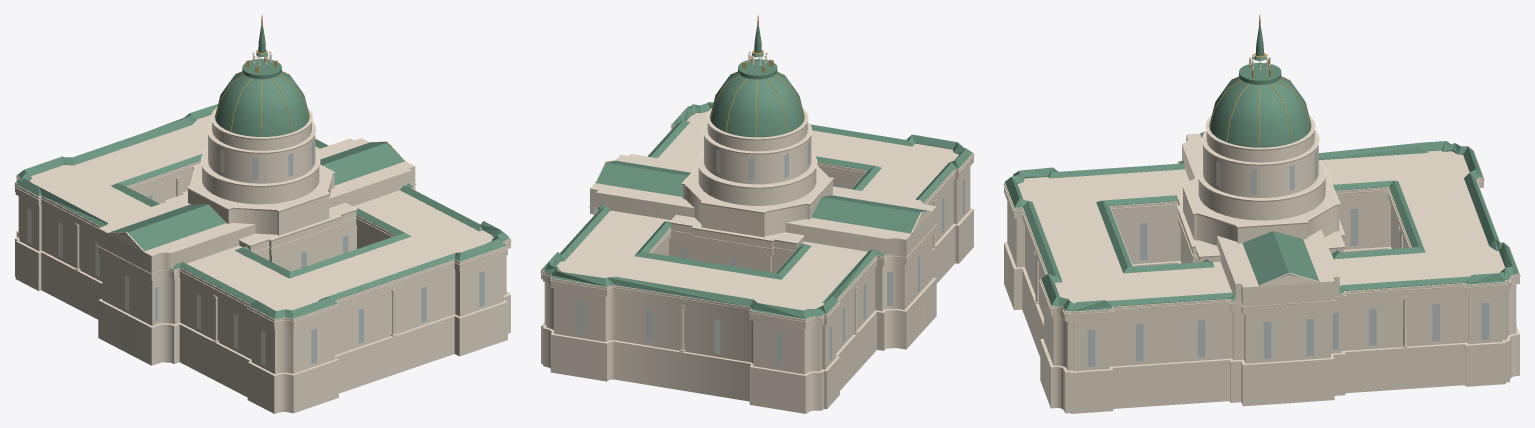
The picture shows the model from 3 angles, left to right: view 1: azimuth 30°, elevation 25°; view 2: azimuth 150°, elevation 25°; view 3: azimuth 270°, elevation 25°; orthographic projection. The views are drawn at different scales.
Visible parts, largest first — view 1: stone, roof, trim, window, metal; view 2: stone, roof, trim, window, metal; view 3: stone, roof, window, trim, metal.
Part boxes in pixels (<box>): stone: <box>15,109,510,413</box>; roof: <box>16,25,509,319</box>; trim: <box>14,50,511,322</box>; window: <box>27,135,484,365</box>; metal: <box>215,14,308,136</box>; stone: <box>541,108,973,413</box>; roof: <box>542,25,972,319</box>; trim: <box>540,50,974,322</box>; window: <box>576,138,964,367</box>; metal: <box>710,14,803,137</box>; stone: <box>1004,117,1519,413</box>; roof: <box>1005,25,1518,311</box>; window: <box>1011,146,1489,366</box>; trim: <box>1003,54,1520,315</box>; metal: <box>1209,14,1310,147</box>.
Size of the model in its own units: 106 by 93 by 138.
